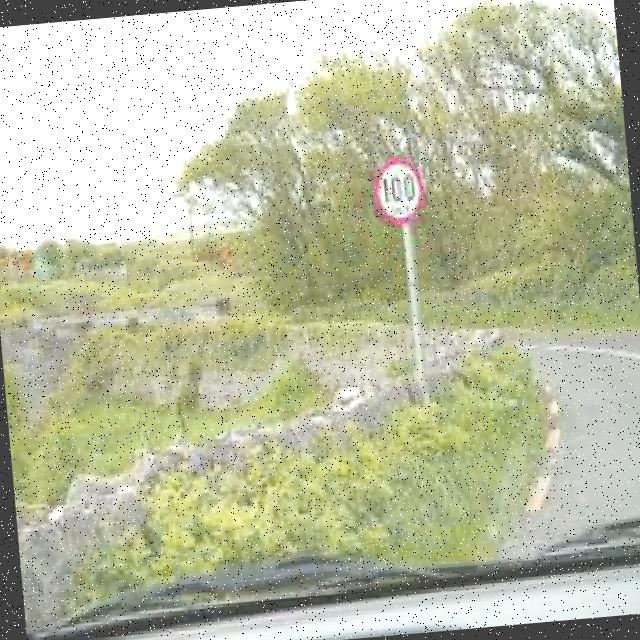Ograniczenie predkosci do 100: (369, 152, 427, 225)
